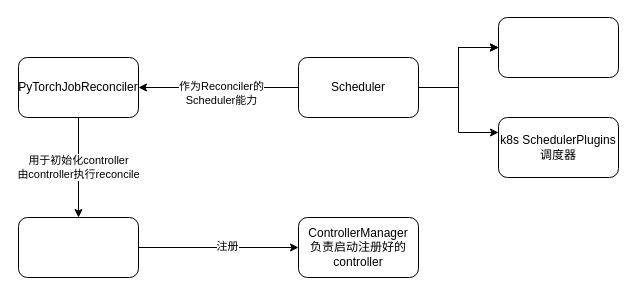
Some shapes in this 636 by 295 pixel diagram are drawn without their labels. The shapes that lost their labels are listed below. From the top down, each one's centre as x and y in pixels, then its label:
point 558,47: Volcano调度器
point 78,247: Controller
